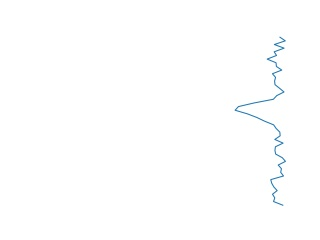interdistributaryEstuary: (232, 37, 291, 207)
